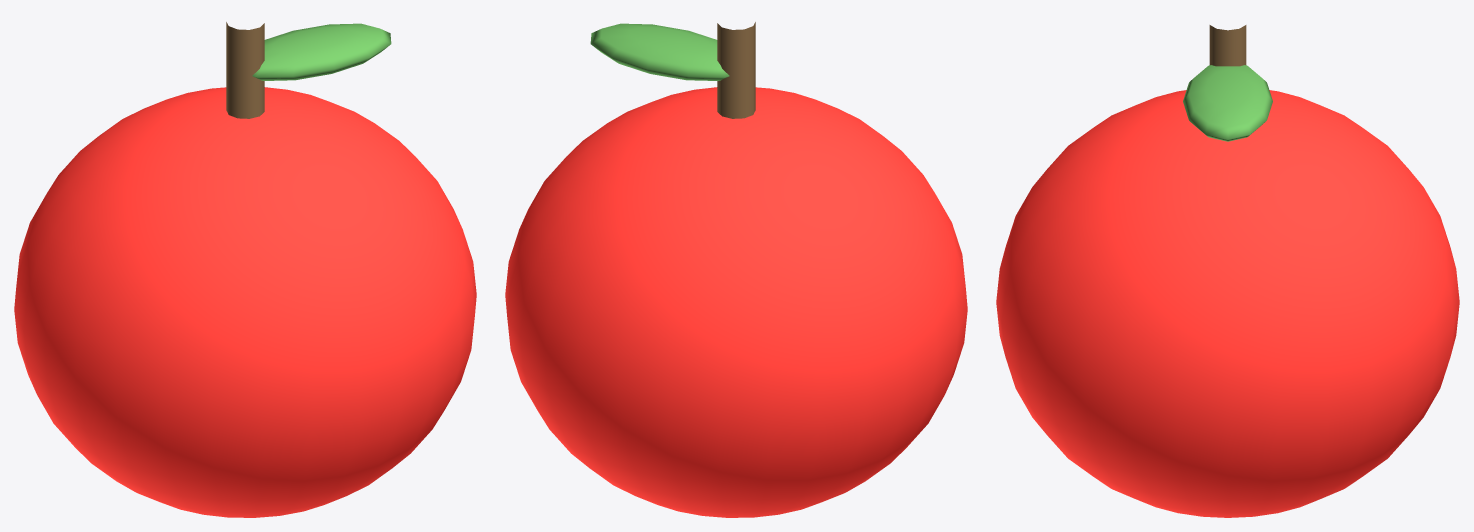
Rendered from Apple.gltf.
3 renders of one model, left to right at view 1: azimuth 30°, elevation 25°; view 2: azimuth 150°, elevation 25°; view 3: azimuth 270°, elevation 25°, orthographic.
Parts seen in each view (by area): view 1: Apple; view 2: Apple; view 3: Apple.
Boxes of the visible parts, x1,y1,x2,y2 form: Apple: [14, 22, 476, 517]; Apple: [505, 22, 967, 517]; Apple: [996, 25, 1459, 517].
Size of the model in its own units: 0.72 by 0.81 by 0.72.
